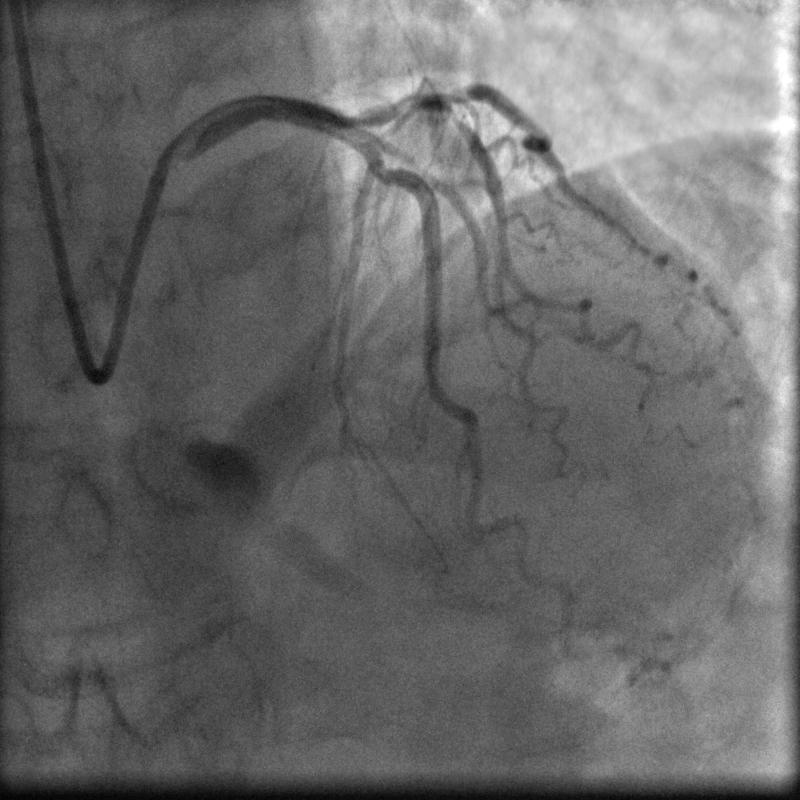Stenosis: (333, 97, 394, 131)
